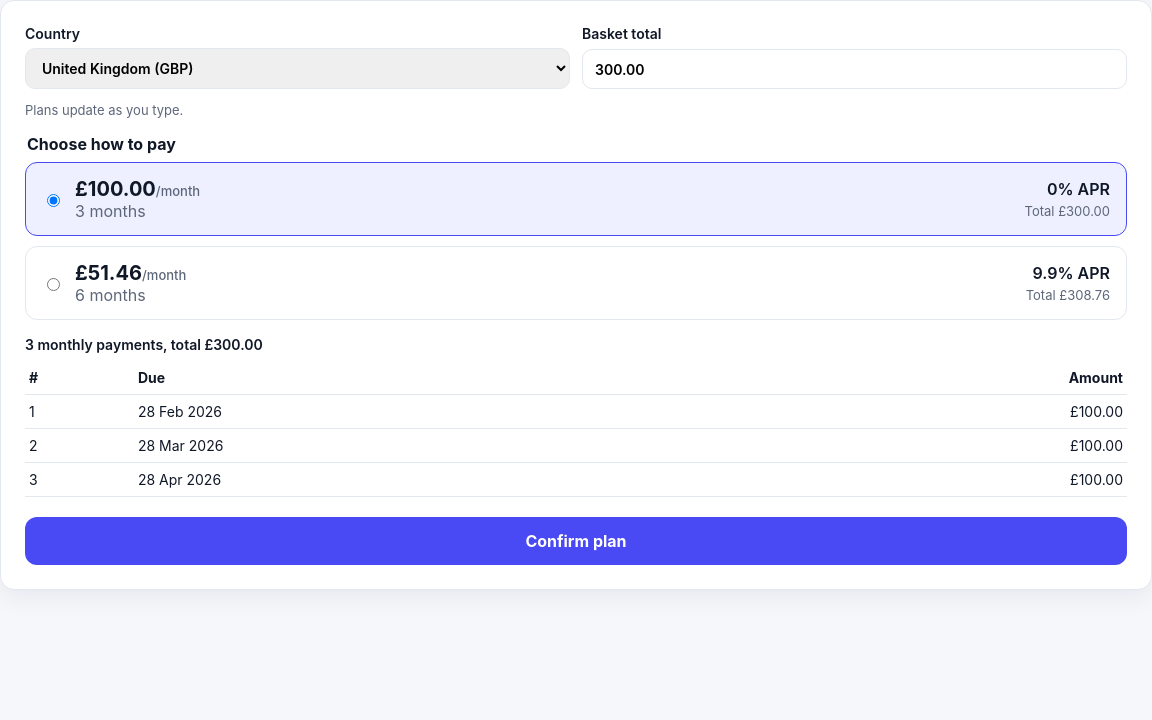
Test: Checkout › updates the schedule when another plan is chosen
The width and height of the screenshot is (1152, 720).
Click the radio button labelled "£51.46/month 6 months 9.9% APR Total £308.76" at (54, 284), box [47,278,60,291]
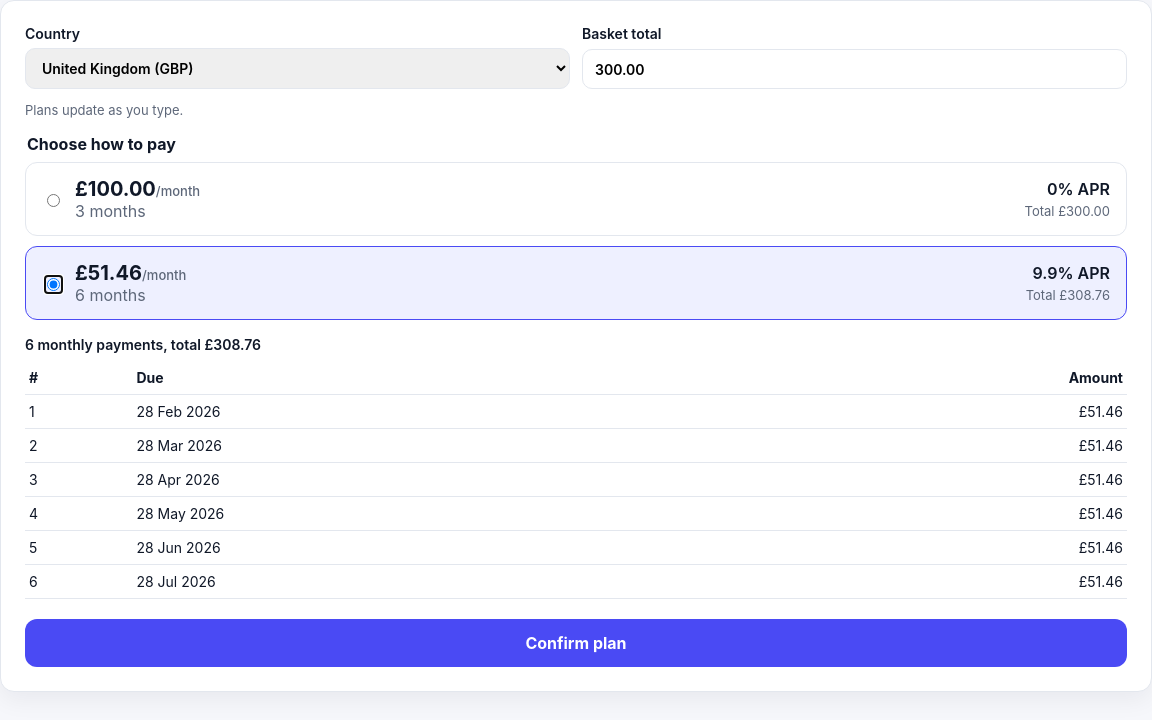
expect the text "9.9% APR" is shown: met, box [1026,263,1110,283]
expect the number of rows is 7: met
